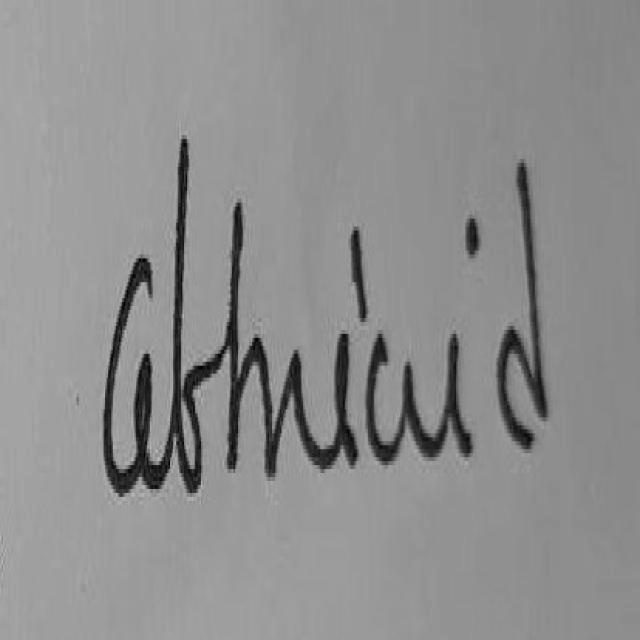C: (104, 258, 151, 495)
a: (368, 334, 427, 463)
d: (499, 163, 549, 447)
e: (134, 354, 173, 489)
f: (173, 139, 230, 493)
i: (314, 334, 359, 469), (435, 334, 473, 458), (351, 227, 366, 316), (467, 219, 479, 252)
r: (254, 338, 314, 475)
t: (227, 211, 253, 467)
